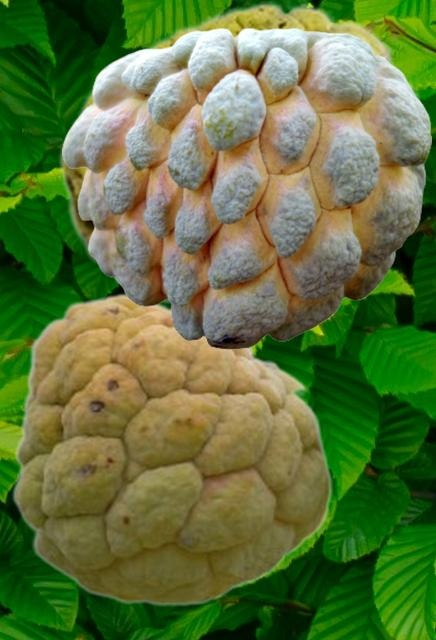atis: (62, 27, 430, 348), (57, 1, 421, 303), (11, 292, 331, 605)
